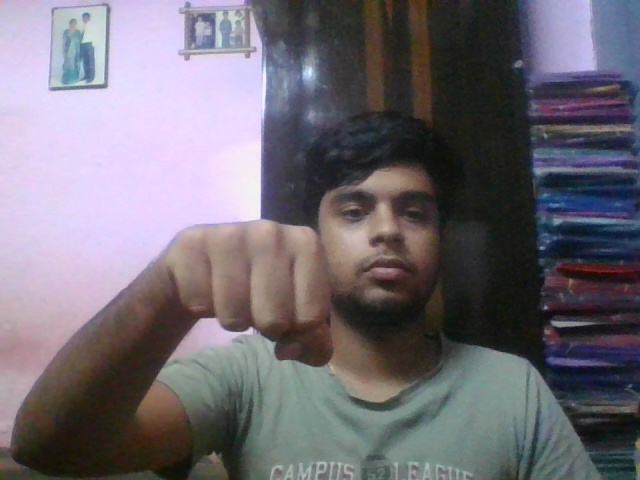Yes: (159, 207, 356, 381)
